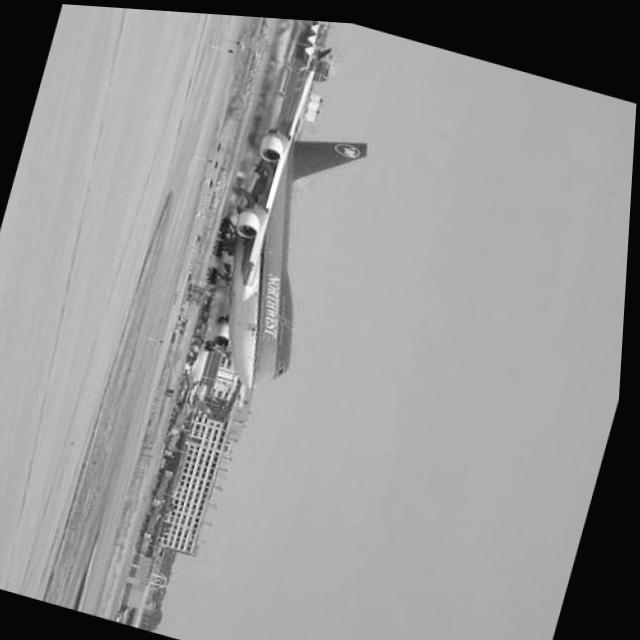aeroplane: (184, 16, 407, 397)
